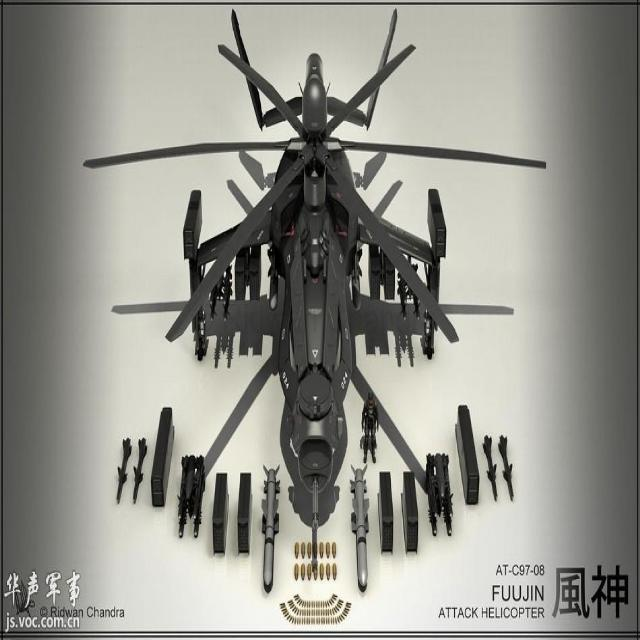MIL_HELO: (68, 17, 549, 587)
